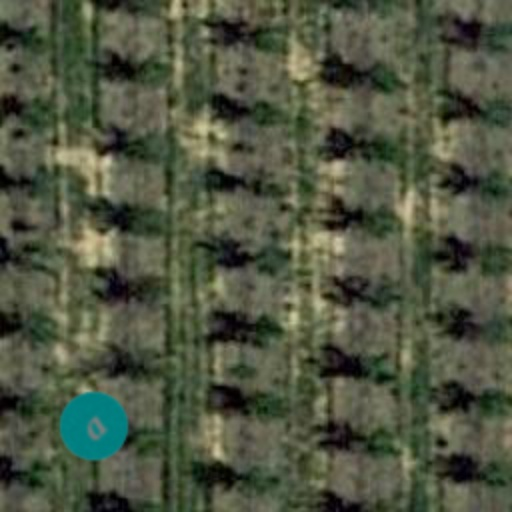circle: (44, 376, 144, 476)
